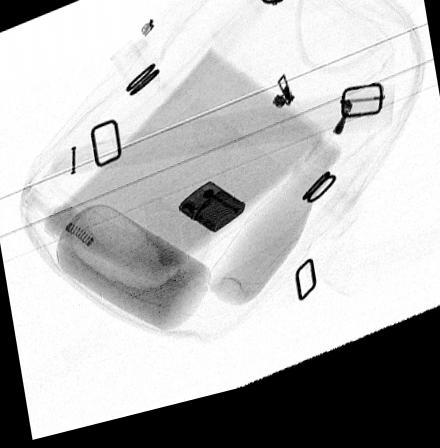Lighter: (178, 190, 246, 245)
